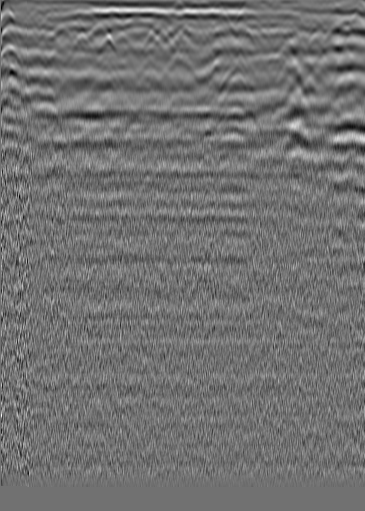가스: (208, 94, 259, 140)
상수: (306, 21, 326, 41)
오수: (23, 8, 43, 28)
우수: (140, 30, 160, 50)
